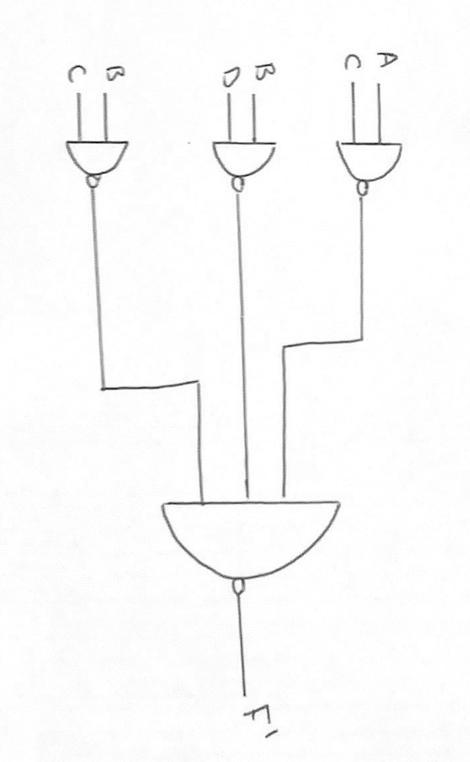NAND: (134, 477, 361, 608), (321, 129, 422, 208), (191, 126, 292, 197), (57, 130, 145, 198)
